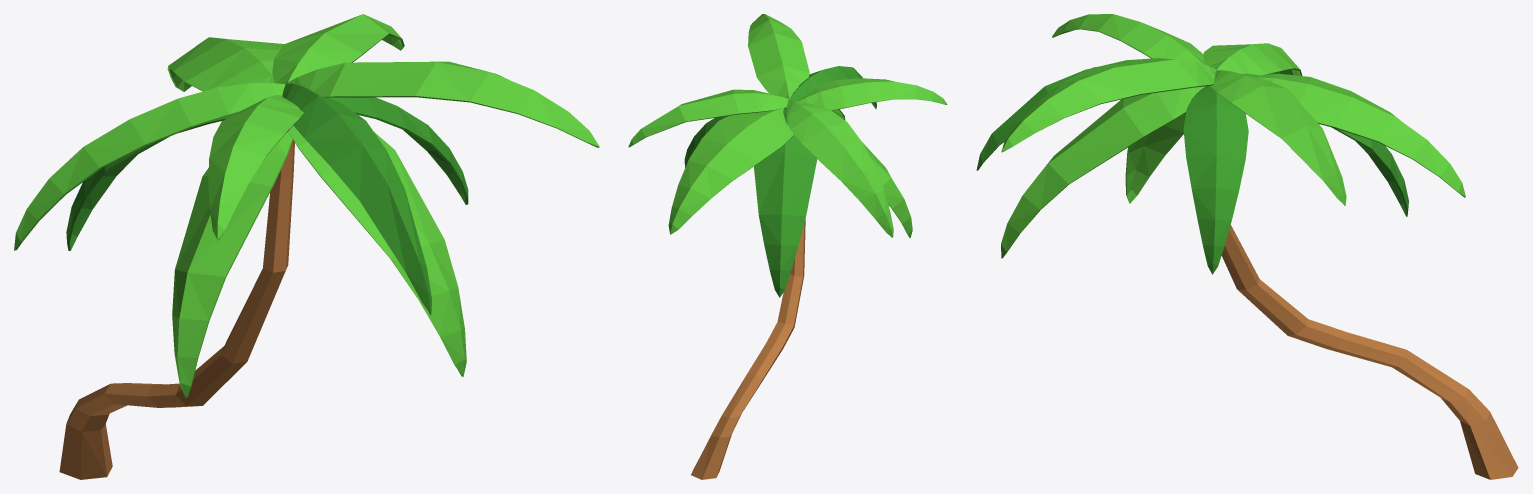
File: palmtree-2.glb
The picture shows the model from 3 angles, left to right: view 1: azimuth 30°, elevation 25°; view 2: azimuth 150°, elevation 25°; view 3: azimuth 270°, elevation 25°; orthographic projection. The views are drawn at different scales.
Parts seen in each view (by area): view 1: PalmTree_2; view 2: PalmTree_2; view 3: PalmTree_2.
Boxes of the visible parts, box(x1,y1,x2,y2) form: PalmTree_2: box(14, 14, 599, 479); PalmTree_2: box(628, 14, 947, 479); PalmTree_2: box(976, 14, 1518, 479).
Bounding box in the file's own units: 2.32 × 2.91 × 3.18.
